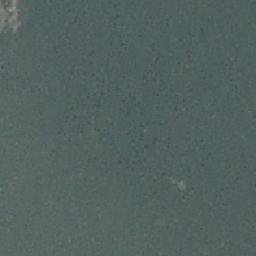debris: (1, 1, 22, 34)
